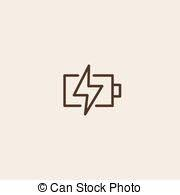charging sign: (40, 51, 145, 131)
